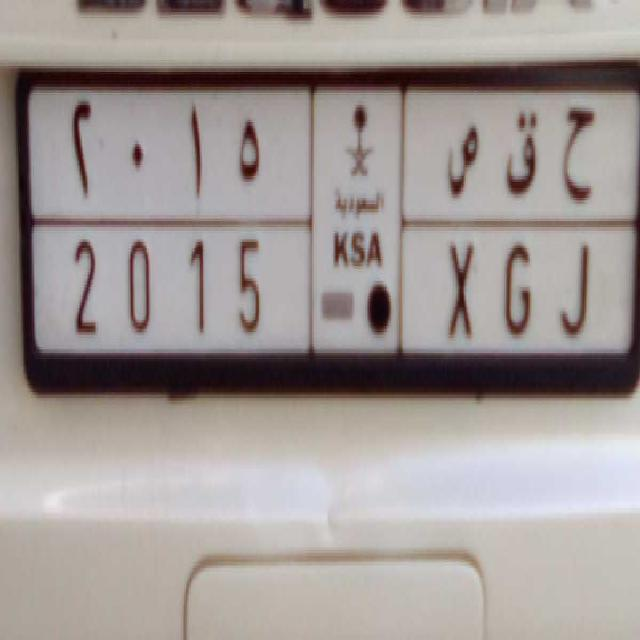license_plate: (48, 218, 612, 372)
